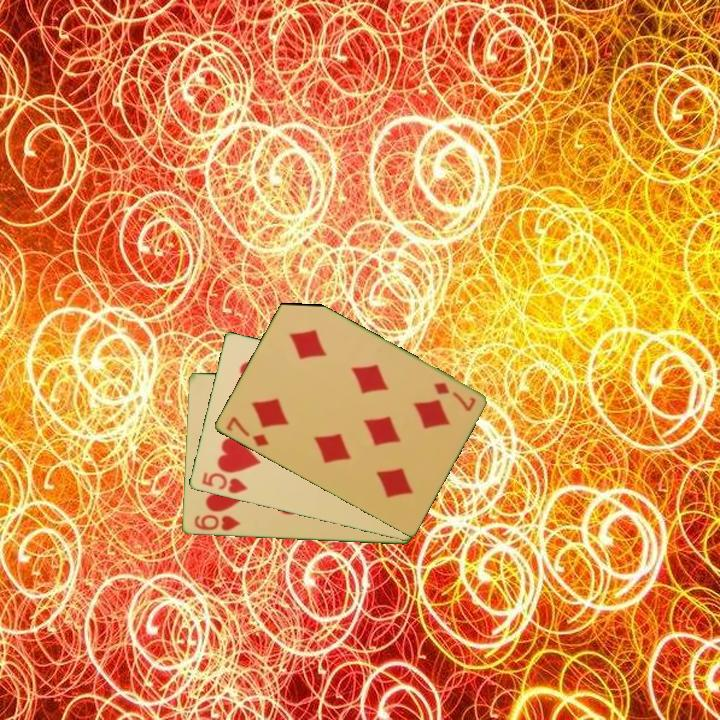5h: (198, 469, 250, 497)
6h: (191, 511, 242, 534)
7d: (222, 413, 271, 450), (430, 379, 478, 414)
